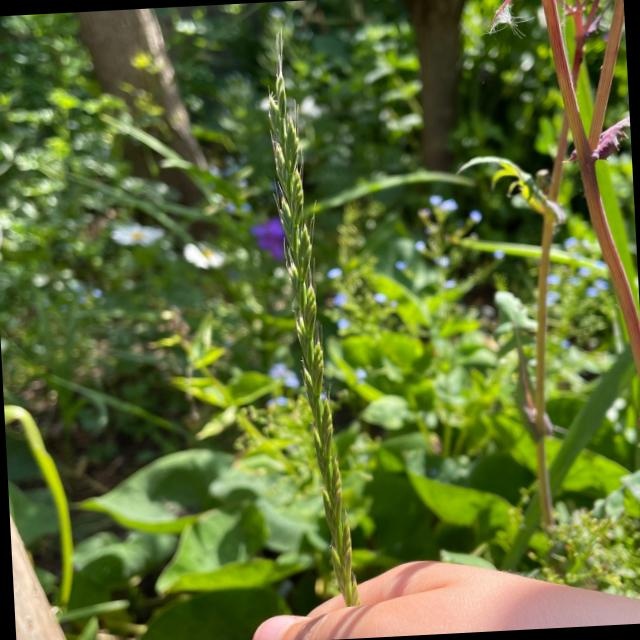Lolium: (256, 22, 364, 612)
